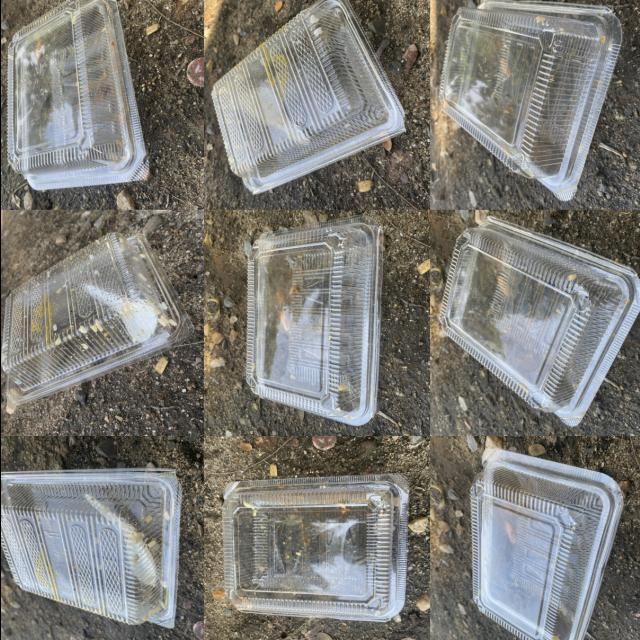plastik: (438, 217, 640, 426), (211, 0, 404, 194), (438, 0, 621, 201), (1, 233, 193, 406), (470, 449, 622, 640), (0, 467, 180, 628), (246, 216, 382, 425), (222, 474, 407, 622), (6, 0, 148, 190)
